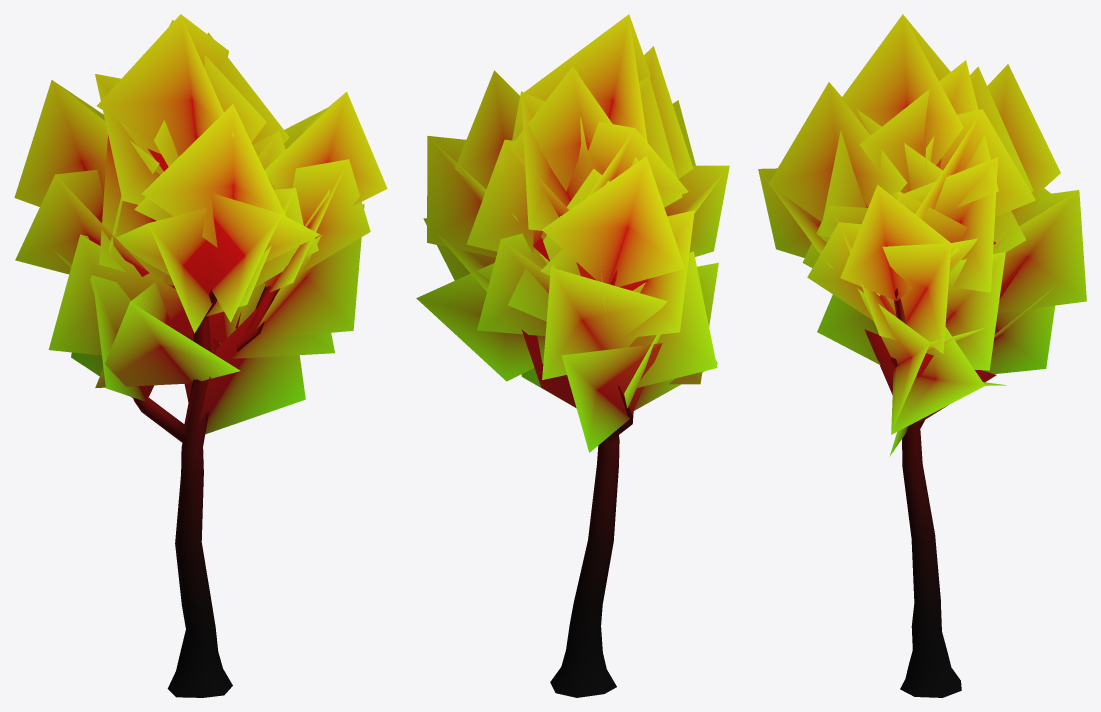
Rendered from birch_1.fbx.
The picture shows the model from 3 angles, left to right: view 1: azimuth 30°, elevation 25°; view 2: azimuth 150°, elevation 25°; view 3: azimuth 270°, elevation 25°; orthographic projection. The views are drawn at different scales.
Parts seen in each view (by area): view 1: birch_1; view 2: birch_1; view 3: birch_1.
Part boxes in pixels (left/top/right/bottom): birch_1: left=14, top=14, right=387, bottom=697; birch_1: left=416, top=14, right=729, bottom=697; birch_1: left=758, top=14, right=1086, bottom=697.
Size of the model in its own units: 2.7 by 5.75 by 2.61.
